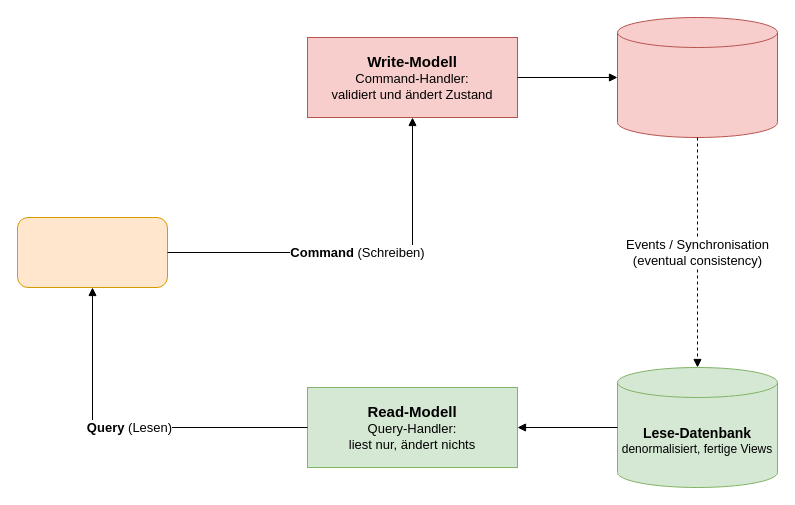
This 795x505 diagram has some shape labels left out. Each missing label, with the centre of its shape:
"Client / UI" goes at [92,252].
"Schreib-Datenbank normalisiert (3NF)" goes at [697,77].
